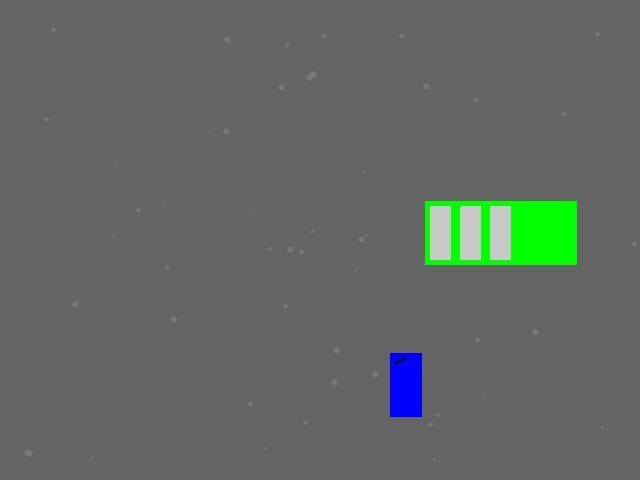bus: (425, 201, 576, 264)
motorcycle: (390, 353, 421, 416)
